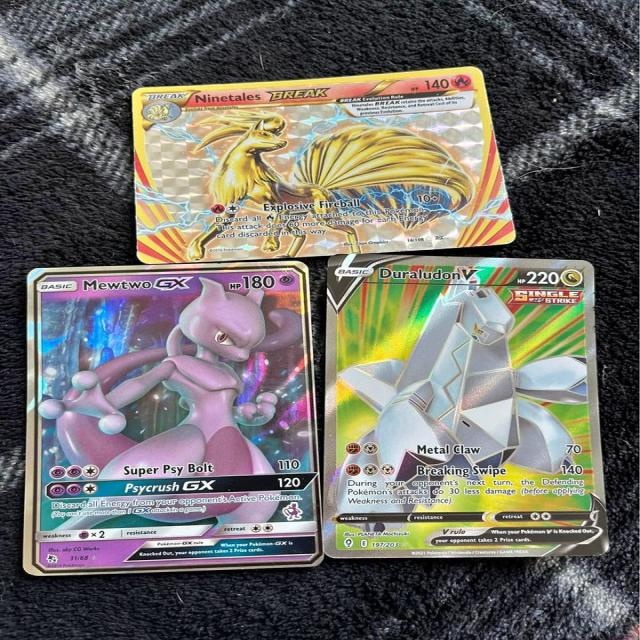card: (22, 260, 325, 577), (320, 252, 611, 559), (132, 66, 518, 265)
